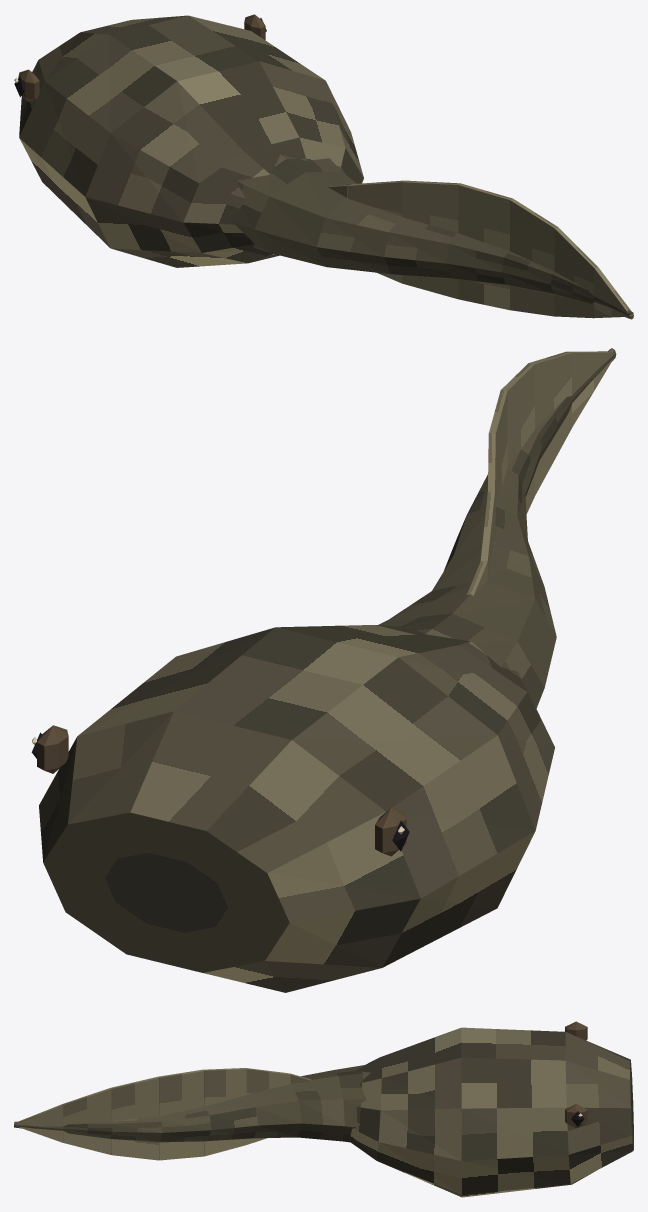
Rendered from mon_bullfrog_tadpole.glb.
3 views of the same model, one above another, from view 1: azimuth 30°, elevation 25°; view 2: azimuth 150°, elevation 25°; view 3: azimuth 270°, elevation 25° (orthographic). The views are drawn at different scales.
Parts seen in each view (by area): view 1: closed_body; view 2: closed_body; view 3: closed_body.
Boxes of the visible parts, x1,y1,x2,y2 form: closed_body: [14, 14, 633, 319]; closed_body: [31, 348, 616, 992]; closed_body: [14, 1021, 633, 1197].
Size of the model in its own units: 0.108 by 0.0726 by 0.2914.
1 material, 1 textured.
